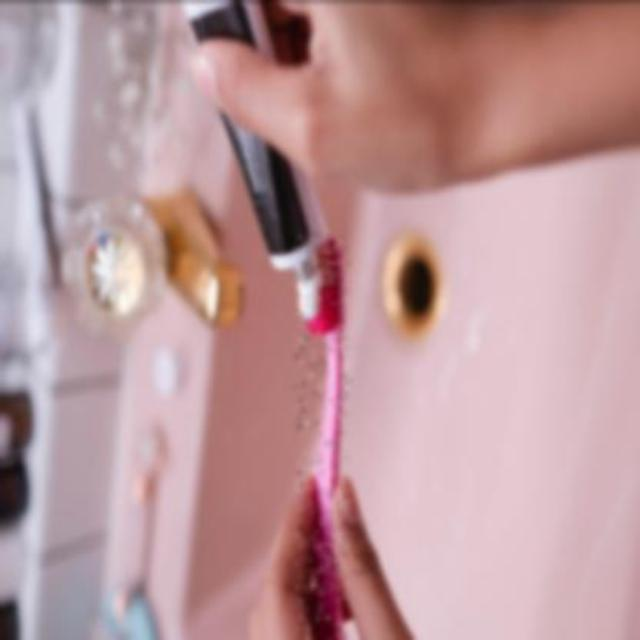toothbrush: (296, 230, 348, 640)
